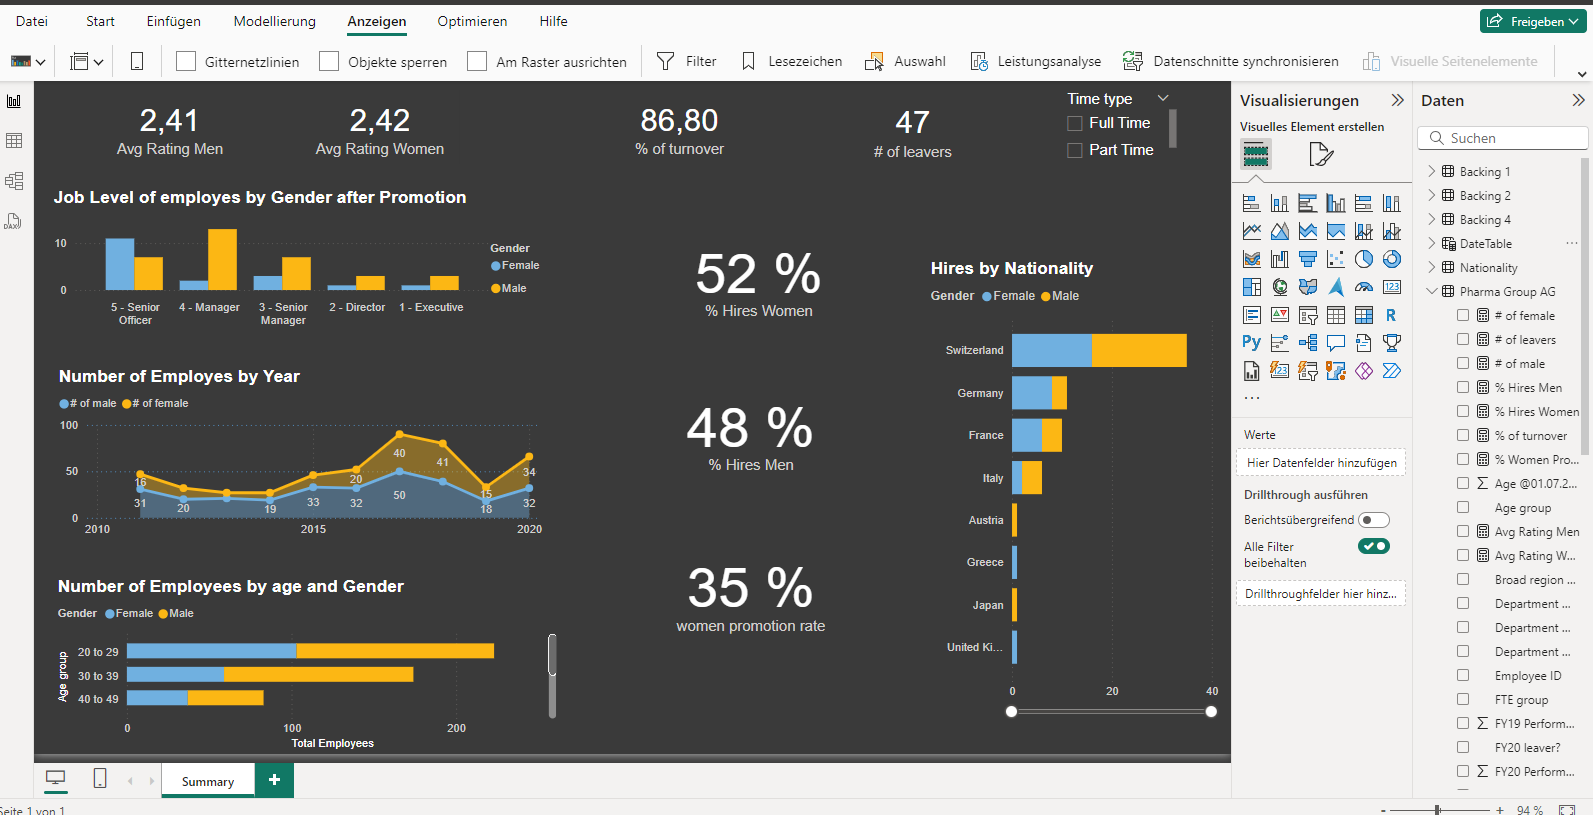

This screenshot's page, from the dashboard's own definition file:
{"tool":"powerbi","page":{"name":"Summary","canvas":[1280,720],"ordinal":0},"visuals":[{"type":"stackedAreaChart","title":"Number of Employes by Year","fields":{"Category":["DateTable.Year"],"Y":["Pharma Group AG.# of male","Pharma Group AG.# of female"]},"box":[21.4,304.8,527.2,190.3],"z":3},{"type":"card","fields":{"Values":["Pharma Group AG.% Hires Men"]},"box":[673.7,324,186.1,99.4],"z":4},{"type":"card","fields":{"Values":["Pharma Group AG.% Hires Women"]},"box":[682.2,161.5,186.1,95.2],"z":5},{"type":"clusteredColumnChart","title":"Job Level of employes by Gender after Promotion","fields":{"Category":["Pharma Group AG.Job Level after FY21 promotions"],"Y":["Pharma Group AG.Number of employees promoted"],"Series":["Pharma Group AG.Gender"]},"box":[16,113.4,538.9,157.2],"z":6},{"type":"card","fields":{"Values":["Pharma Group AG.women promotion rate"]},"box":[673.7,495.1,186.1,100.5],"z":7},{"type":"barChart","title":"Hires by Nationality","fields":{"Category":["Pharma Group AG.Nationality 1"],"Y":["Pharma Group AG.number of hires"],"Series":["Pharma Group AG.Gender"]},"box":[953.9,189.3,317.6,496.2],"z":9},{"type":"card","fields":{"Values":["Pharma Group AG.Average Performance Rating Men"]},"box":[52.4,9.6,186.1,79.1],"z":10},{"type":"card","fields":{"Values":["Pharma Group AG.Average Performance Rating Women"]},"box":[285.5,9.6,169,79.1],"z":11},{"type":"card","fields":{"Values":["Pharma Group AG.% of turnover"]},"box":[592.4,9.6,195.7,79.1],"z":12},{"type":"card","fields":{"Values":["Pharma Group AG.# of leavers"]},"box":[859.7,15,160.4,73.8],"z":13},{"type":"slicer","fields":{"Values":["Pharma Group AG.Time type"]},"box":[1091.8,5.3,134.7,83.4],"z":14},{"type":"barChart","title":"Number of Employees by age and Gender","fields":{"Category":["Pharma Group AG.Age group"],"Y":["Pharma Group AG.Total Employees"],"Series":["Pharma Group AG.Gender"]},"box":[20.3,529.3,543.2,190.3],"z":15}]}

Visuals, with their boxes on the page's 1280x720 design canvas (x1, y1, x2, y2). These are canvas units, not pixel positions in the 1593x815 screenshot, which may show the page scaled, cropped or inside an application window:
"Number of Employes by Year" stackedAreaChart: 21, 305, 549, 495
card - Pharma Group AG.% Hires Men: 674, 324, 860, 423
card - Pharma Group AG.% Hires Women: 682, 162, 868, 257
"Job Level of employes by Gender after Promotion" clusteredColumnChart: 16, 113, 555, 271
card - Pharma Group AG.women promotion rate: 674, 495, 860, 596
"Hires by Nationality" barChart: 954, 189, 1272, 686
card - Pharma Group AG.Average Performance Rating Men: 52, 10, 238, 89
card - Pharma Group AG.Average Performance Rating Women: 286, 10, 454, 89
card - Pharma Group AG.% of turnover: 592, 10, 788, 89
card - Pharma Group AG.# of leavers: 860, 15, 1020, 89
slicer - Pharma Group AG.Time type: 1092, 5, 1226, 89
"Number of Employees by age and Gender" barChart: 20, 529, 564, 720
